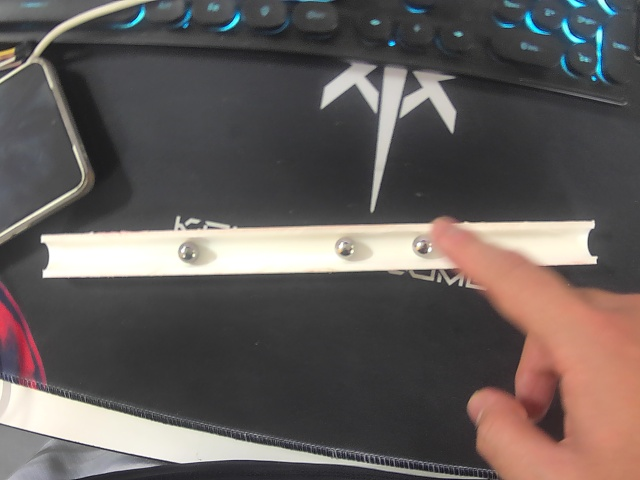steelball: (176, 240, 202, 265), (333, 235, 358, 259), (411, 237, 430, 257)
